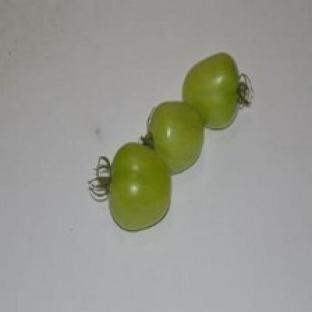Tomato: (91, 143, 171, 231), (183, 53, 252, 129), (143, 102, 204, 174)
